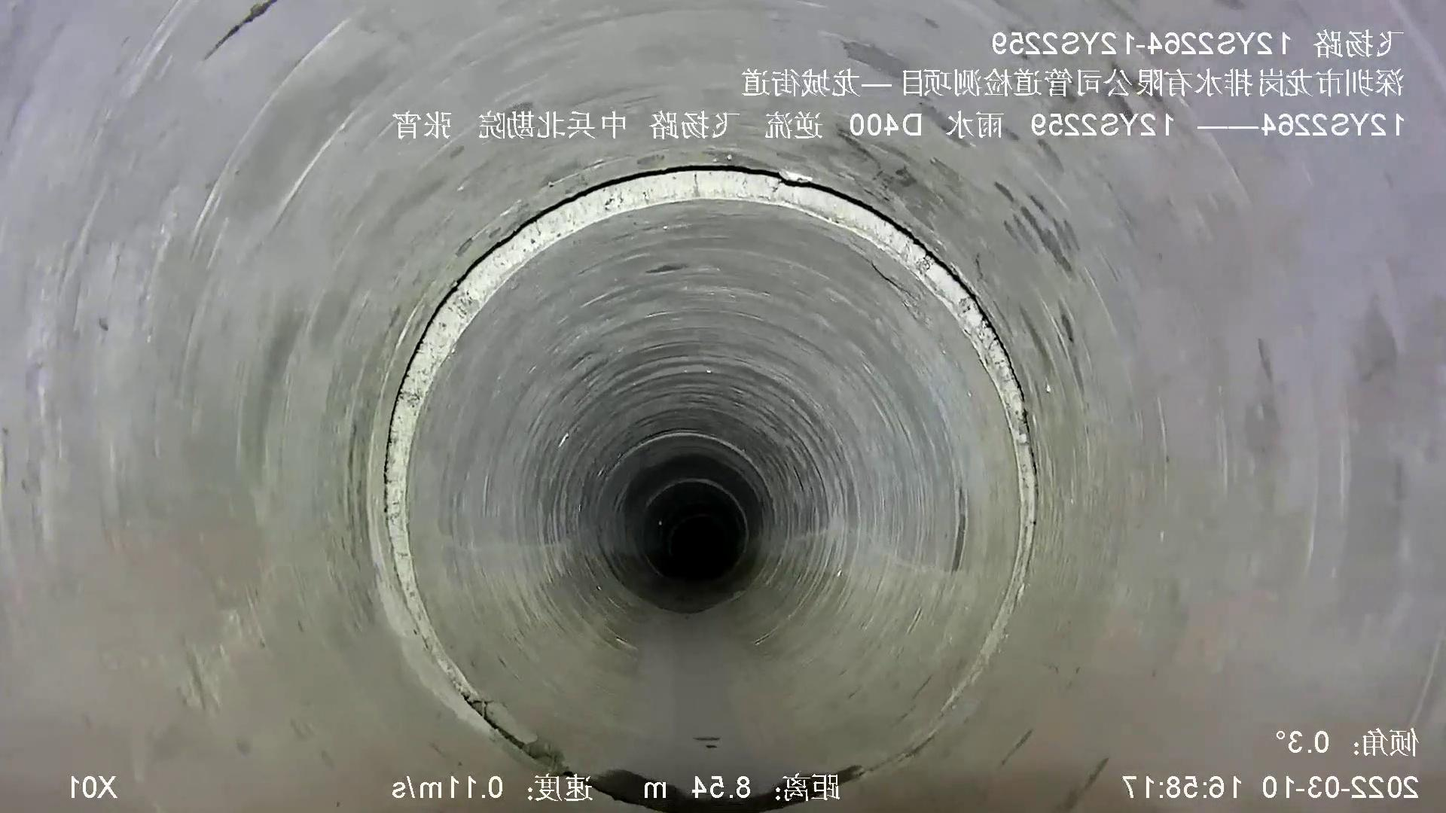CKTJ: (370, 166, 1038, 780)
